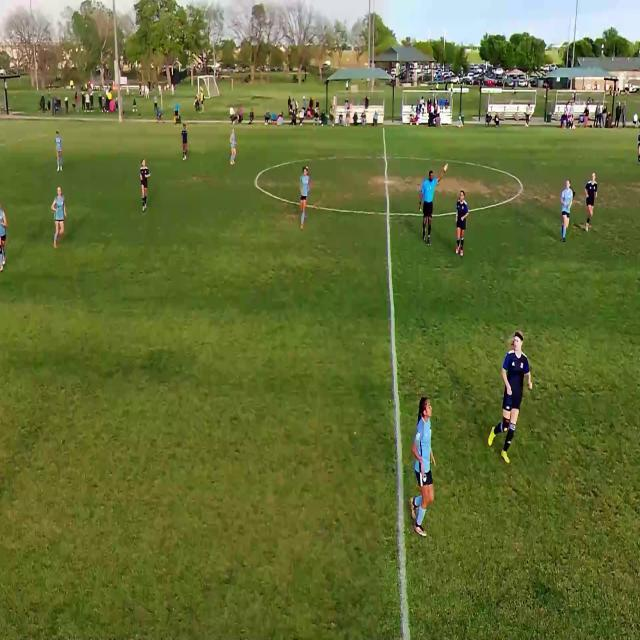team1: (492, 332, 528, 468), (454, 192, 469, 258), (584, 174, 598, 232), (0, 201, 9, 272), (138, 160, 150, 213), (183, 122, 190, 161)
team2: (411, 398, 441, 540), (53, 188, 68, 250), (298, 166, 313, 227), (561, 182, 574, 244), (55, 131, 64, 173), (230, 125, 239, 166)
